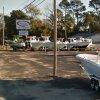Boat: (30, 34, 92, 54)
